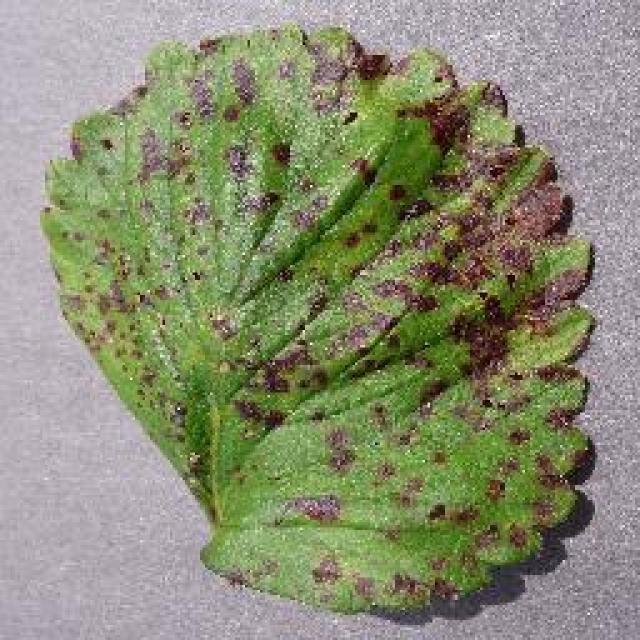Strawberry leaf scorch: (130, 89, 493, 478)
